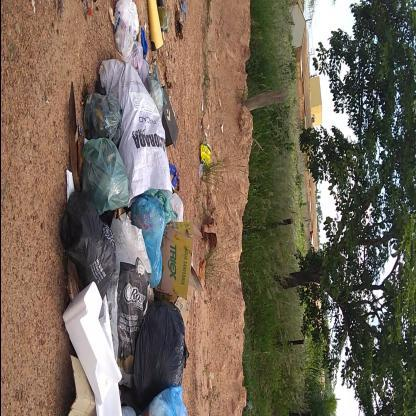lixo: (58, 64, 194, 416)
